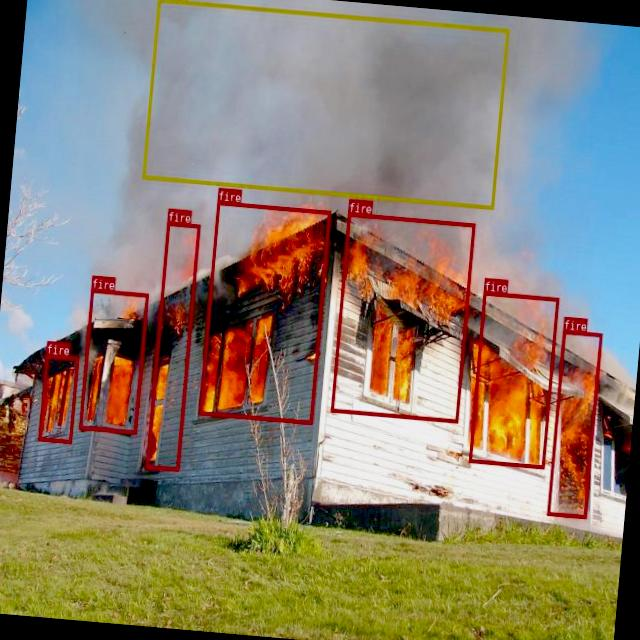fire: (330, 211, 474, 422), (198, 200, 330, 423), (468, 290, 558, 468), (145, 220, 199, 470), (546, 329, 602, 518), (78, 288, 147, 432), (38, 352, 78, 442)
smoke: (141, 0, 508, 208)
